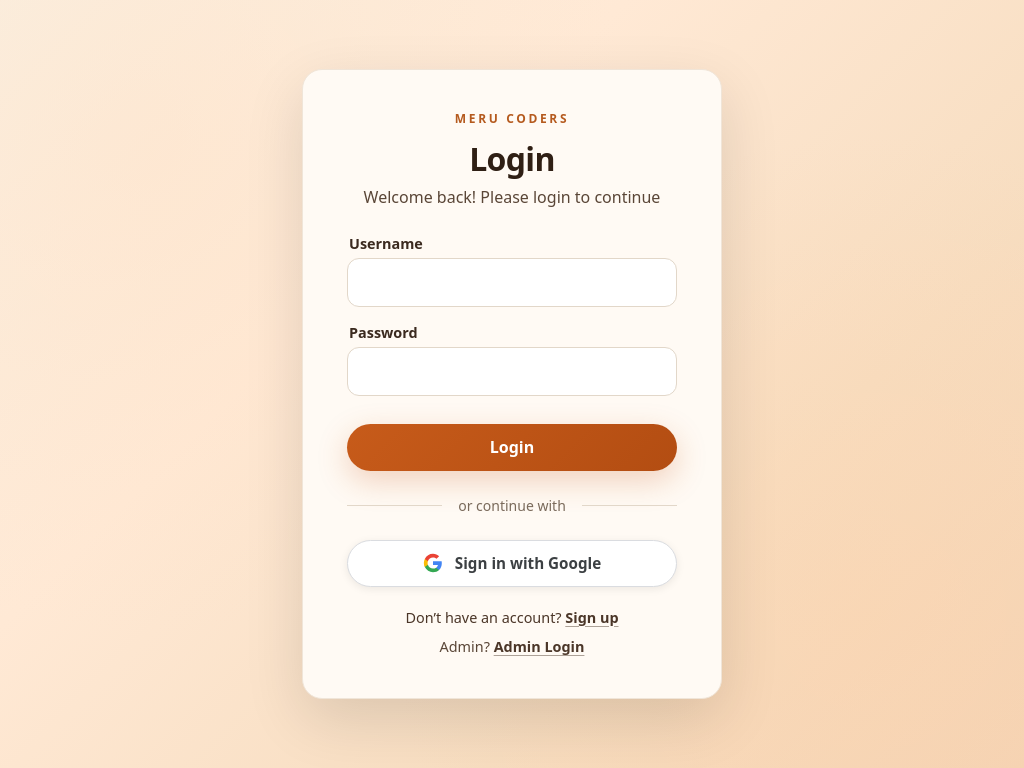
Scenario: LoginPage › shows a refused login
Type "vyasa" into the field labelled "Username". click: (512, 283)
box: [347,258,677,307]
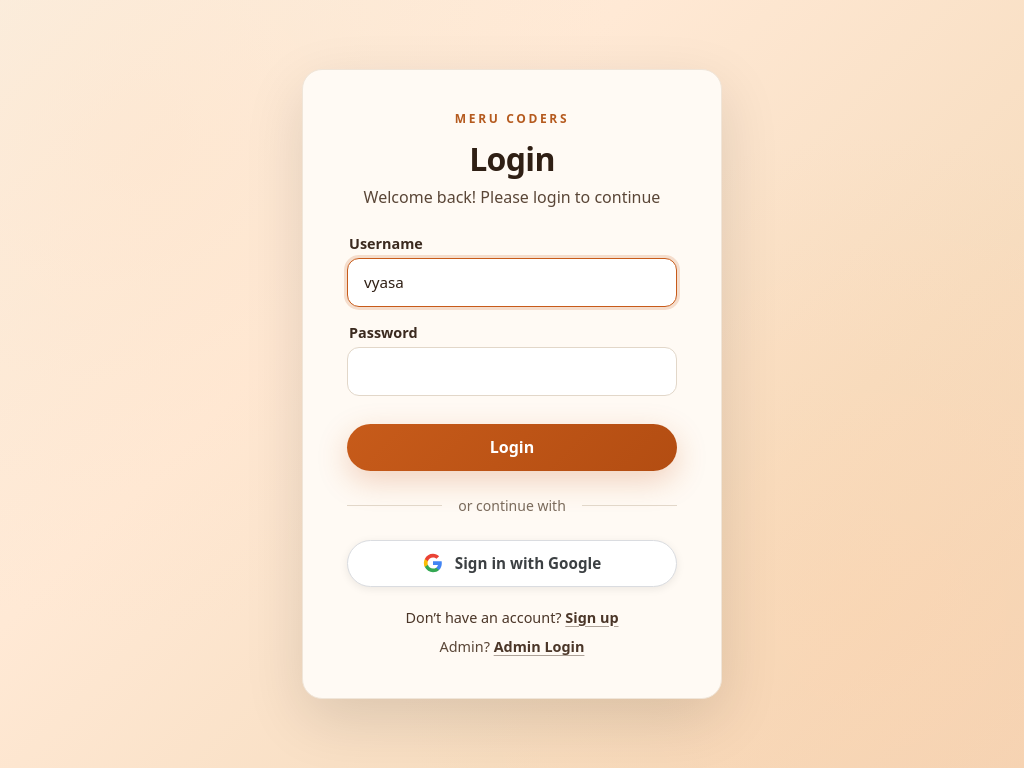
Type "wrong" into the password field labelled "Password". click: (512, 372)
box: [347,347,677,396]
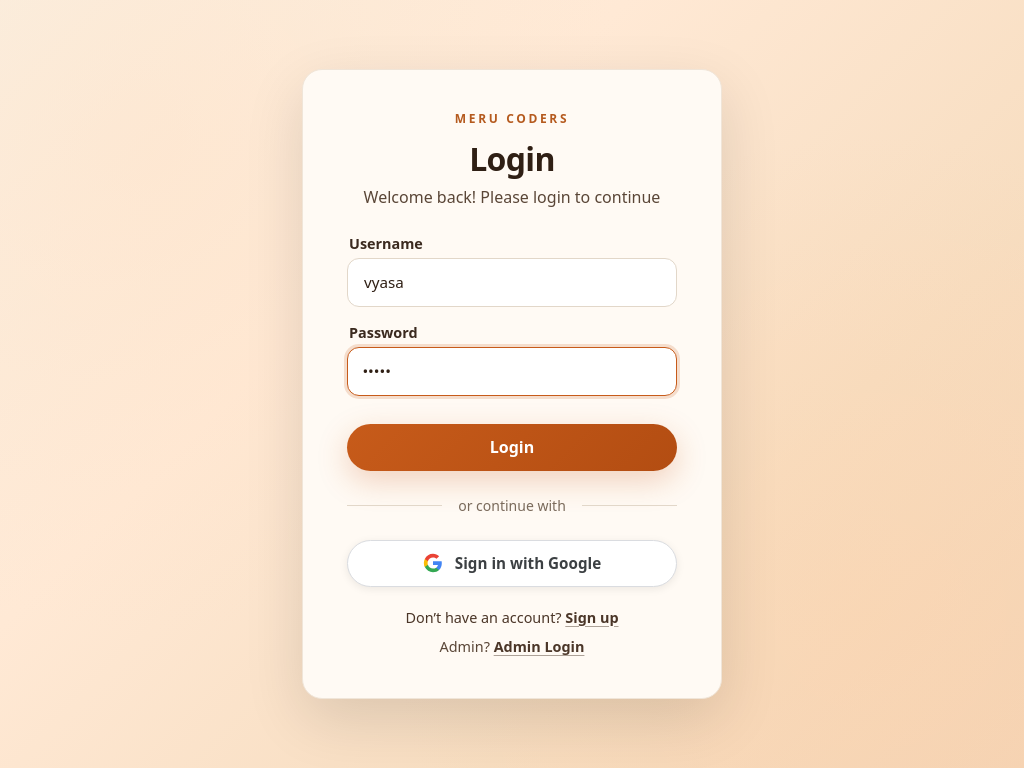
Click the button "Login". click: (512, 447)
box: [347,424,677,471]
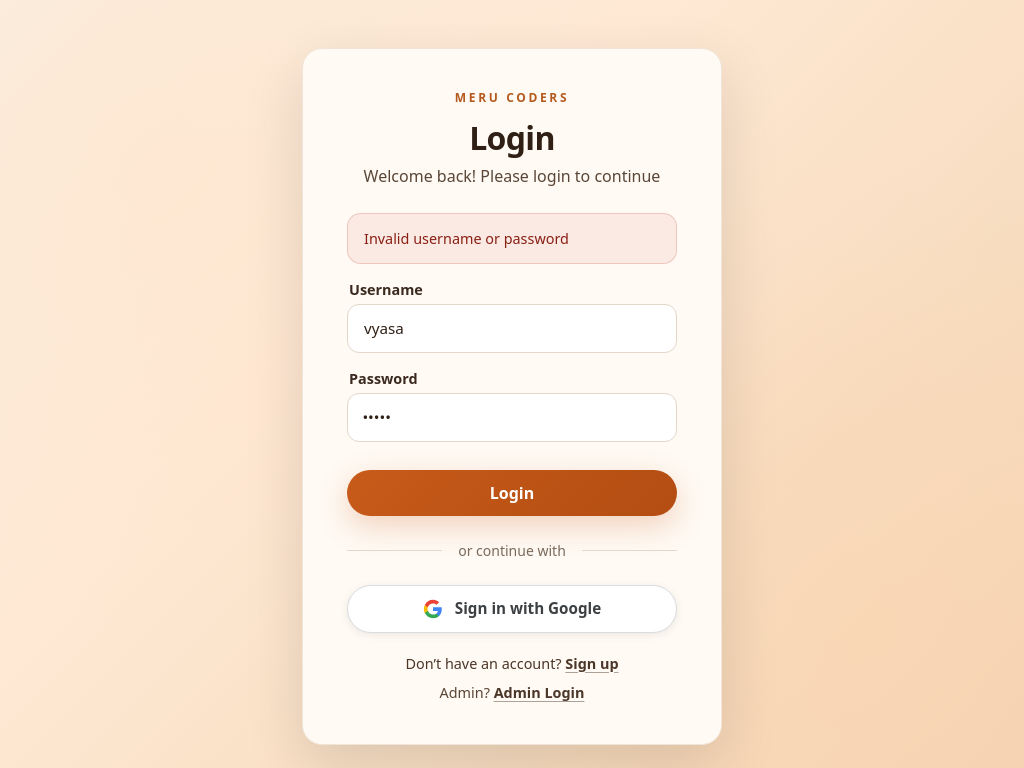
Check: the message reads "Invalid username or password", box [364,229,569,248]
